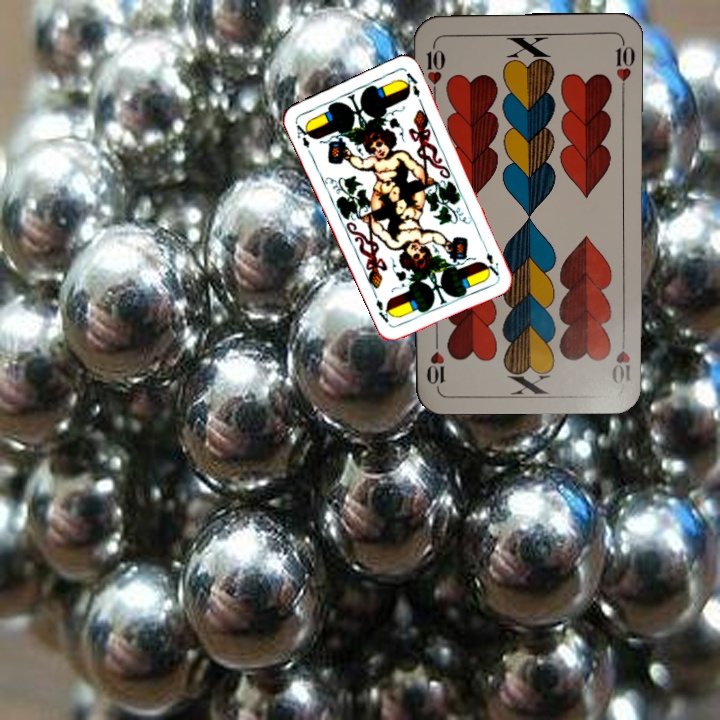EA: (479, 240, 502, 278), (292, 119, 315, 151)
H10: (423, 39, 448, 98), (608, 328, 633, 386)
